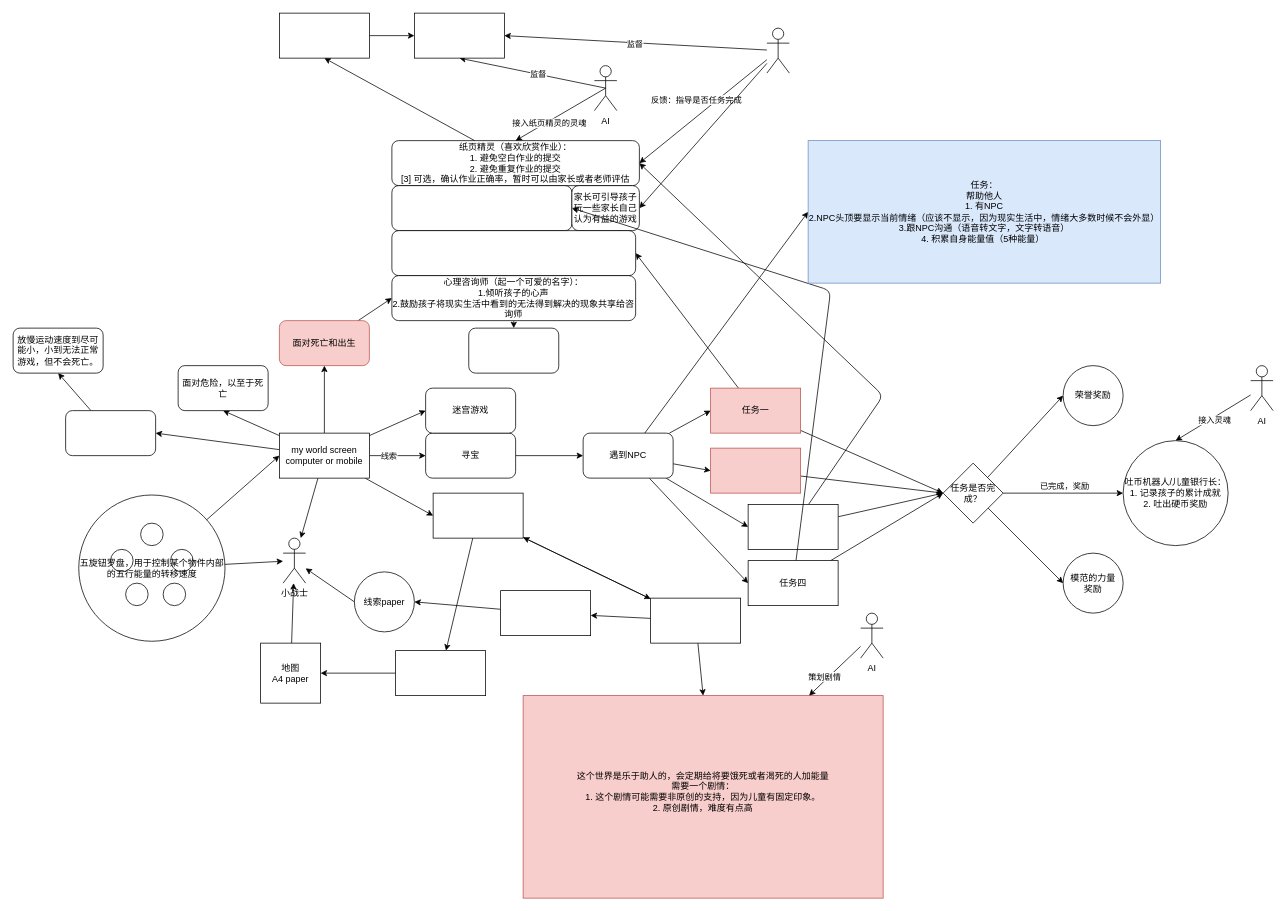
Image size: 1286x911. Some labels were removed from this diagram. The shapes that lost their labels are listed below. From the top down, each one's centre as x and y in pixels, then its label:
(x=324, y=35): 照相机+录音机
(x=459, y=35): 存储空间： 照片 声音
(x=777, y=50): 家长
(x=481, y=208): 游戏狂人（号称没有自己没玩过的游戏）： 1. 提交游戏成就 2. 提交游戏策略
(x=513, y=253): 植物学家（）： 1. 拍照收集不同植物
(x=513, y=350): 提出死亡的问题，表明不知道死亡是什么
(x=110, y=433): 面对饥饿和口渴
(x=755, y=470): 任务二
(x=477, y=515): minetestmapper.exe
(x=792, y=526): 任务三
(x=545, y=613): 给出一段故事，或者线索
(x=695, y=620): 事先探索好此范围的地形，生成剧情
(x=440, y=673): png
